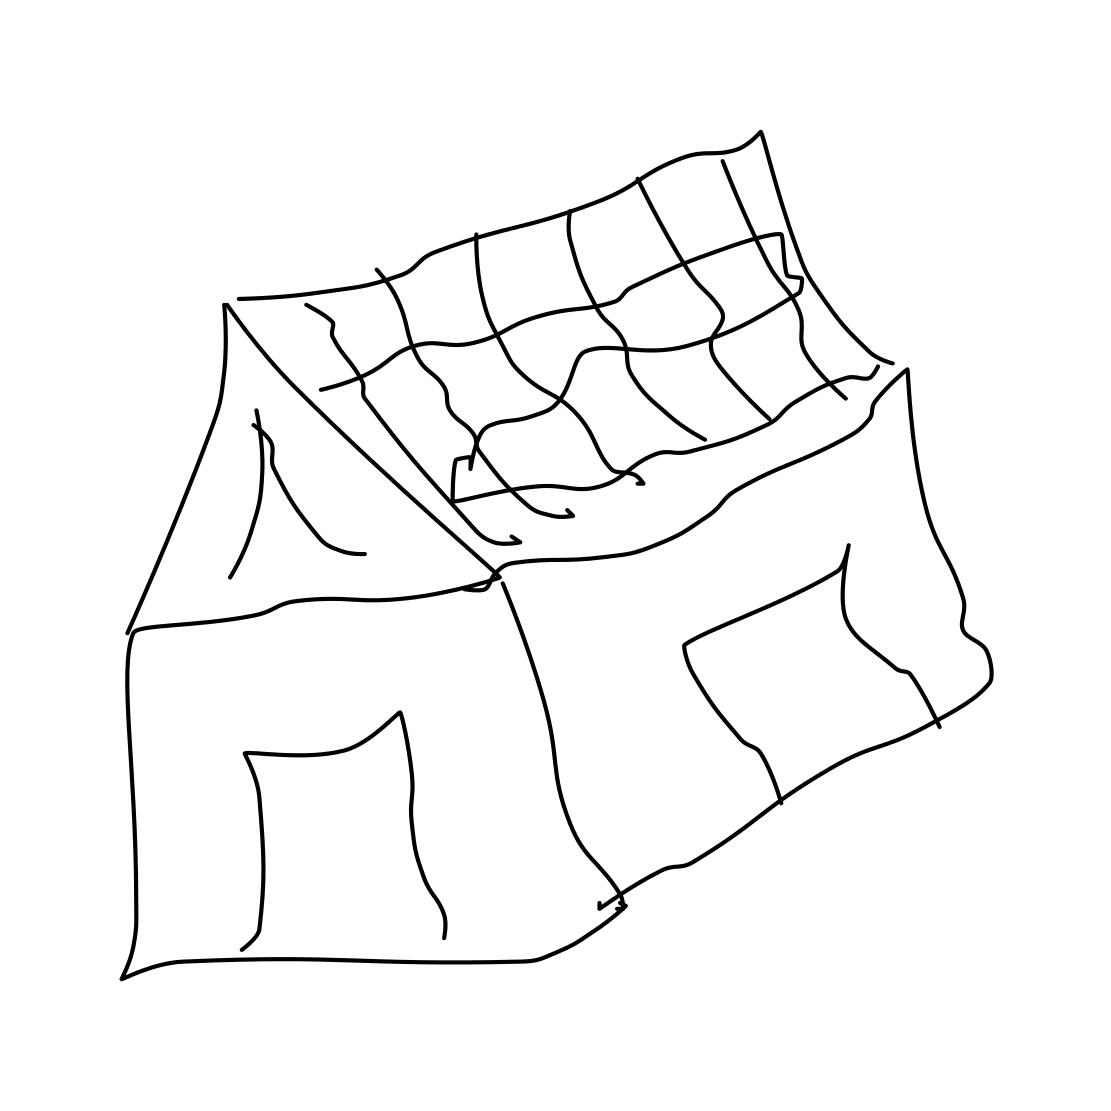House: (55, 109, 1006, 1000)
